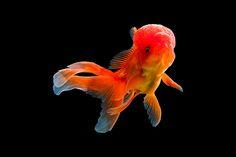goldfish: (68, 19, 187, 133)
